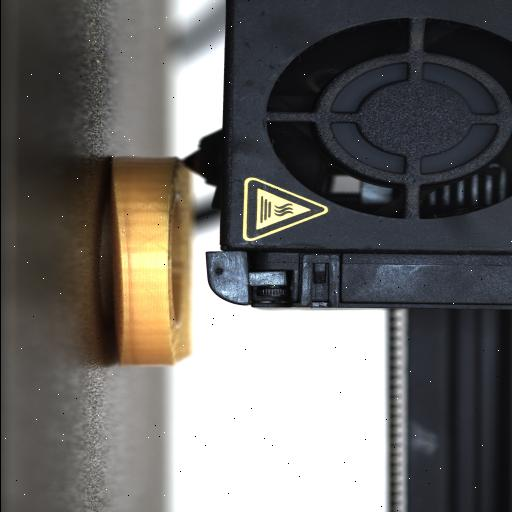warp: (100, 156, 136, 366)
